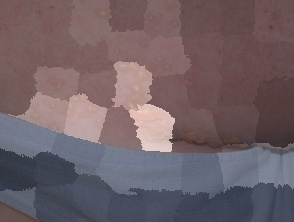SJS-TEN: (22, 0, 269, 152)
